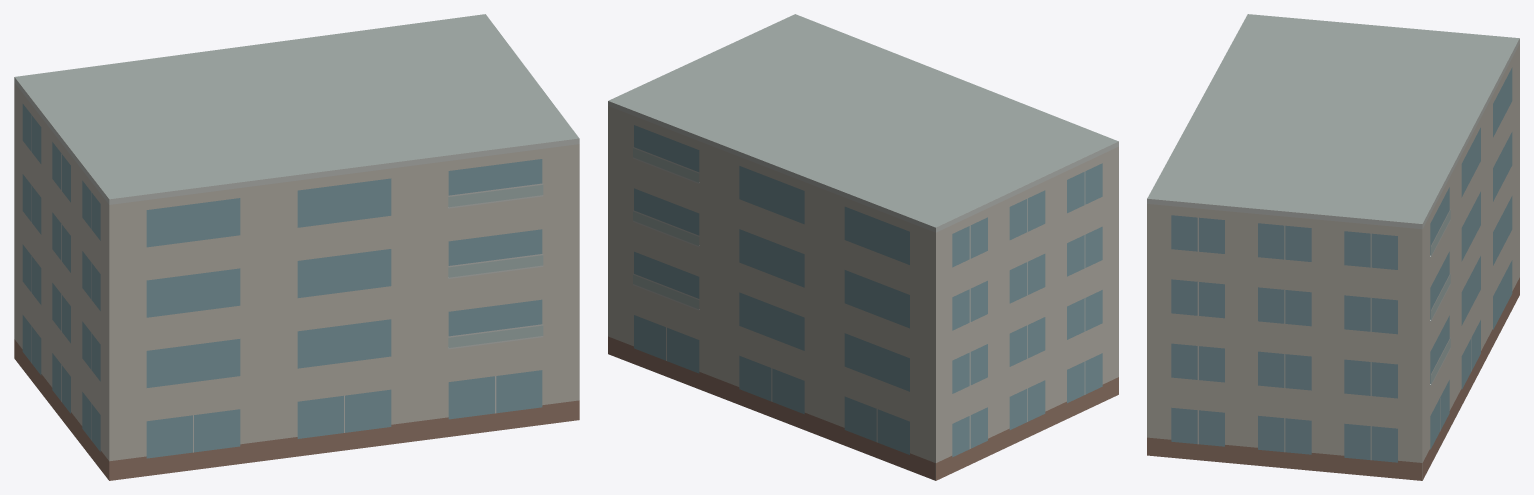
Rendered from survey-upis-32811377.glb.
The picture shows the model from 3 angles, left to right: view 1: azimuth 30°, elevation 25°; view 2: azimuth 150°, elevation 25°; view 3: azimuth 270°, elevation 25°; orthographic projection. The views are drawn at different scales.
Parts seen in each view (by area): view 1: survey-upis-32811377.tmp; view 2: survey-upis-32811377.tmp; view 3: survey-upis-32811377.tmp.
Boxes of the visible parts, x1,y1,x2,y2 form: survey-upis-32811377.tmp: [14, 14, 579, 480]; survey-upis-32811377.tmp: [608, 14, 1118, 480]; survey-upis-32811377.tmp: [1147, 14, 1519, 480].
Size of the model in its own units: 21.42 by 12.2 by 16.06.
